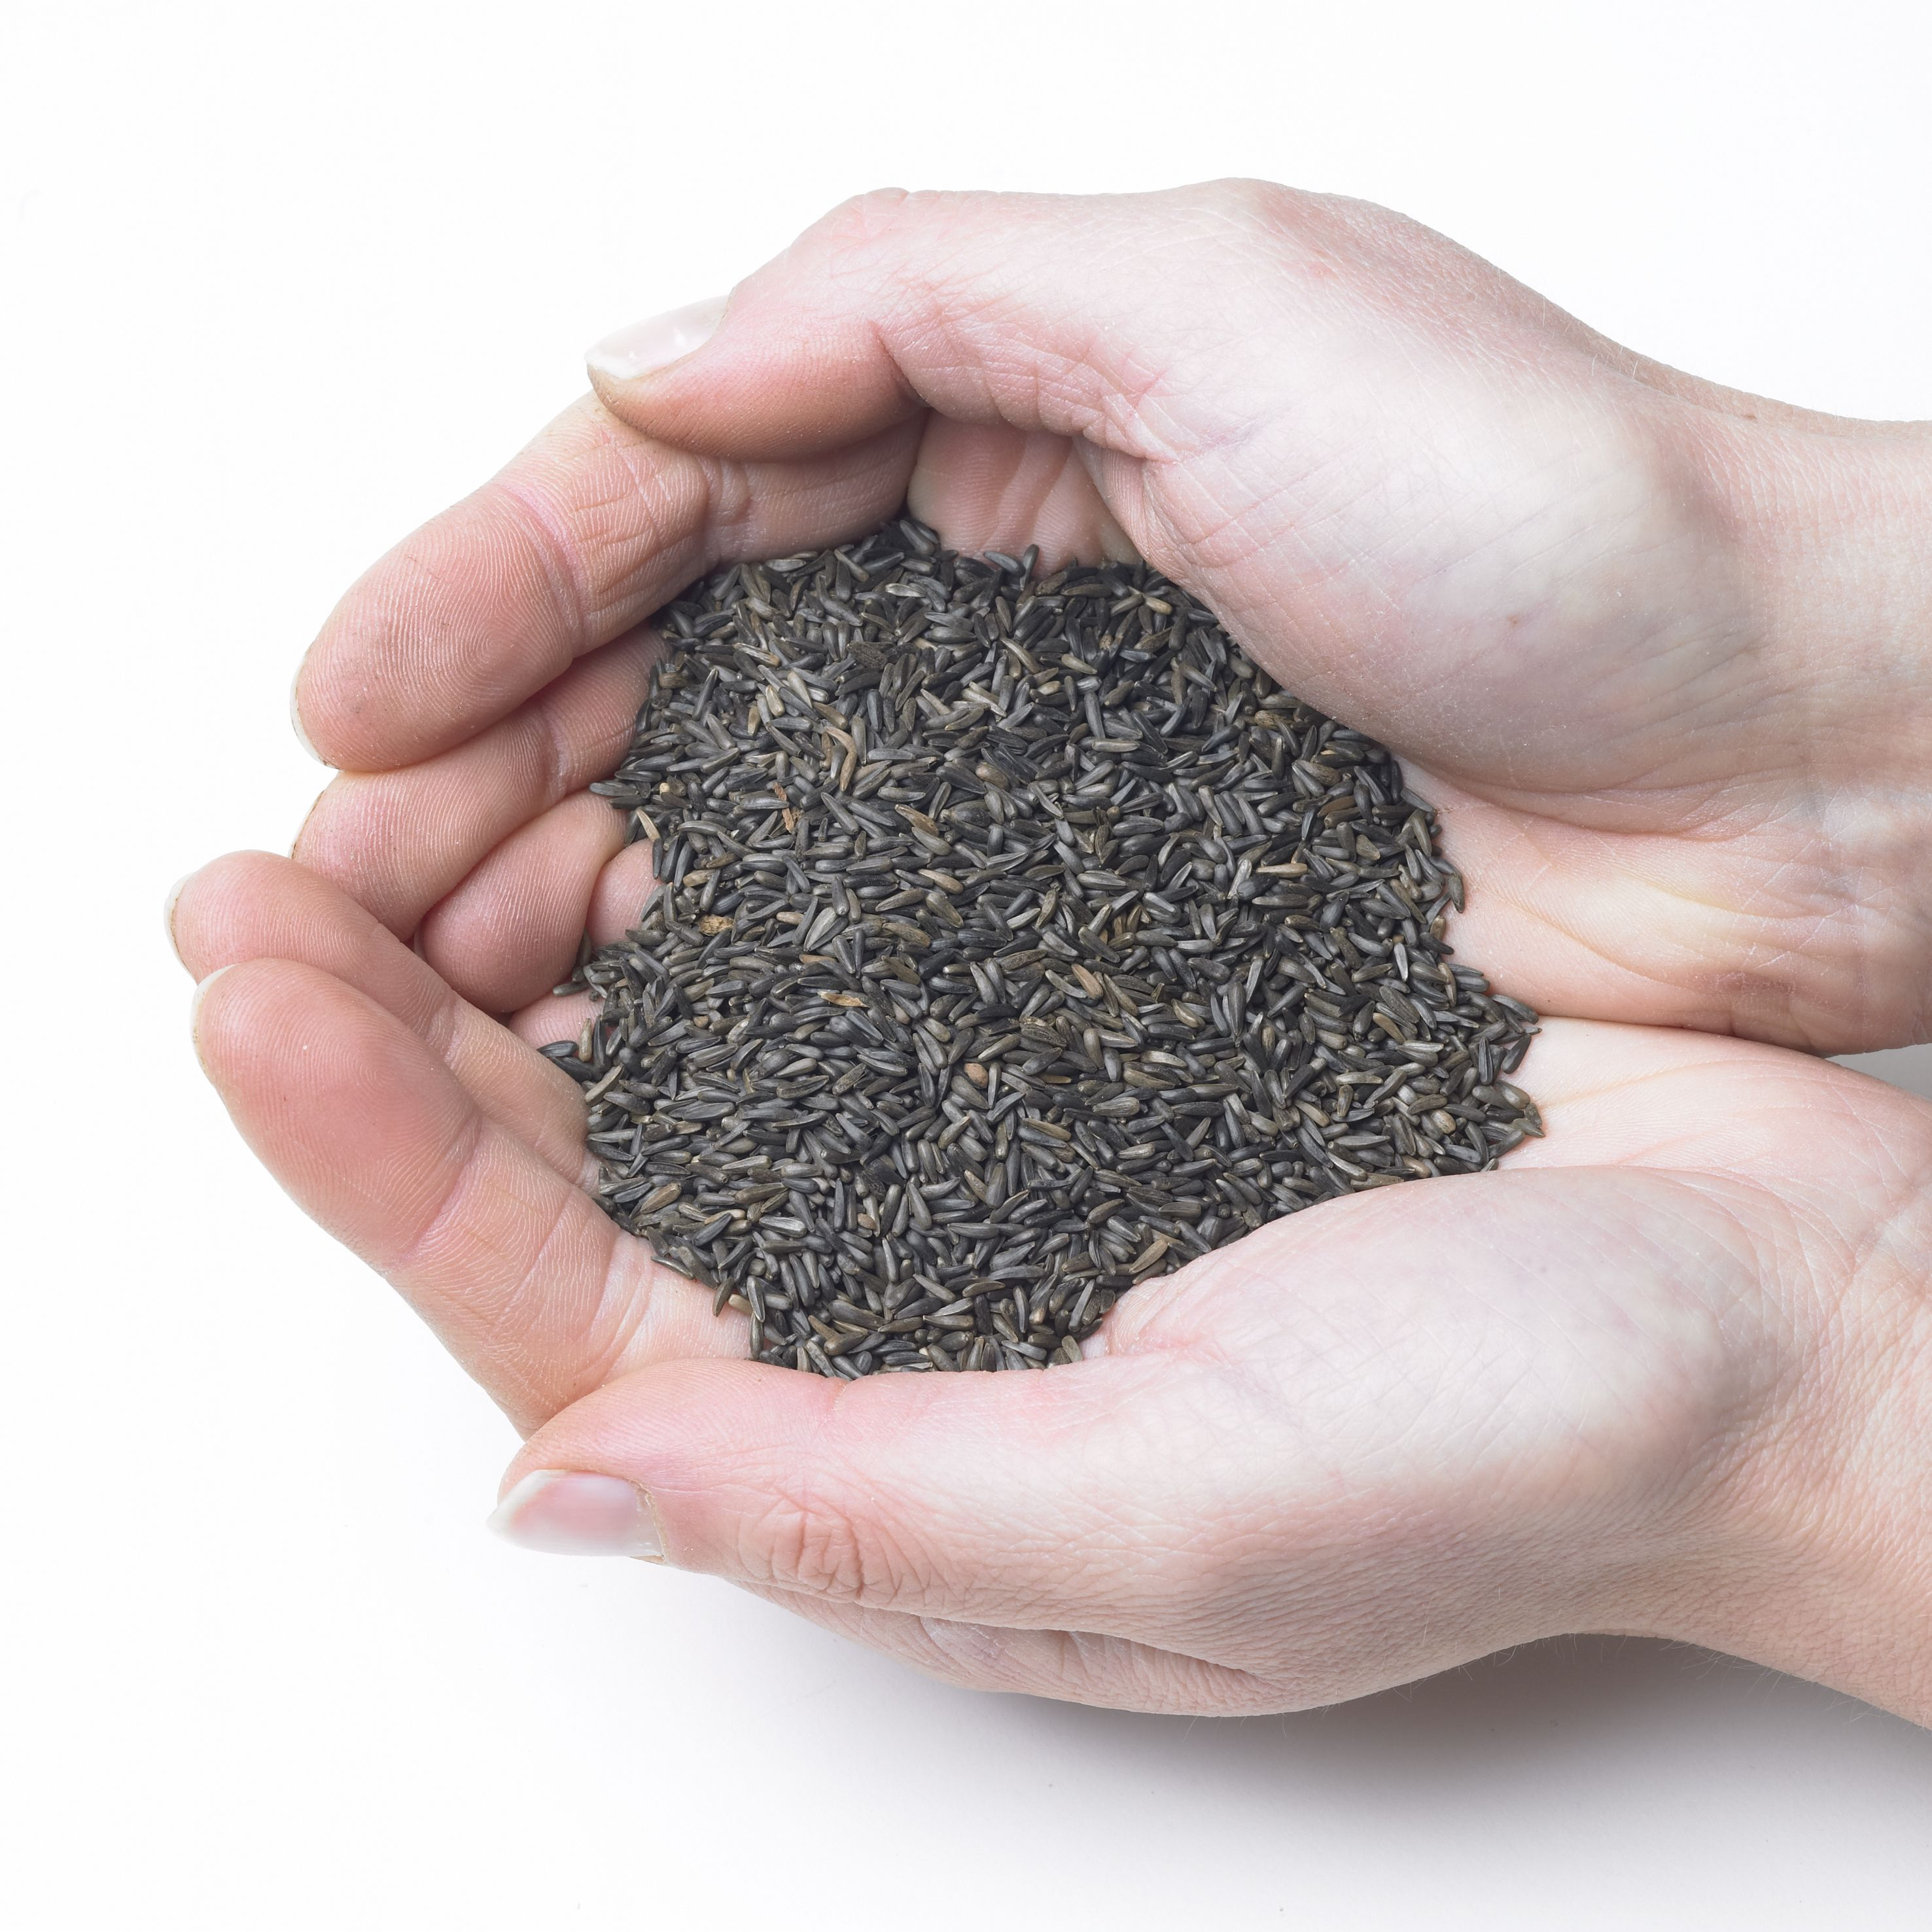seed: (490, 511, 1564, 1384)
